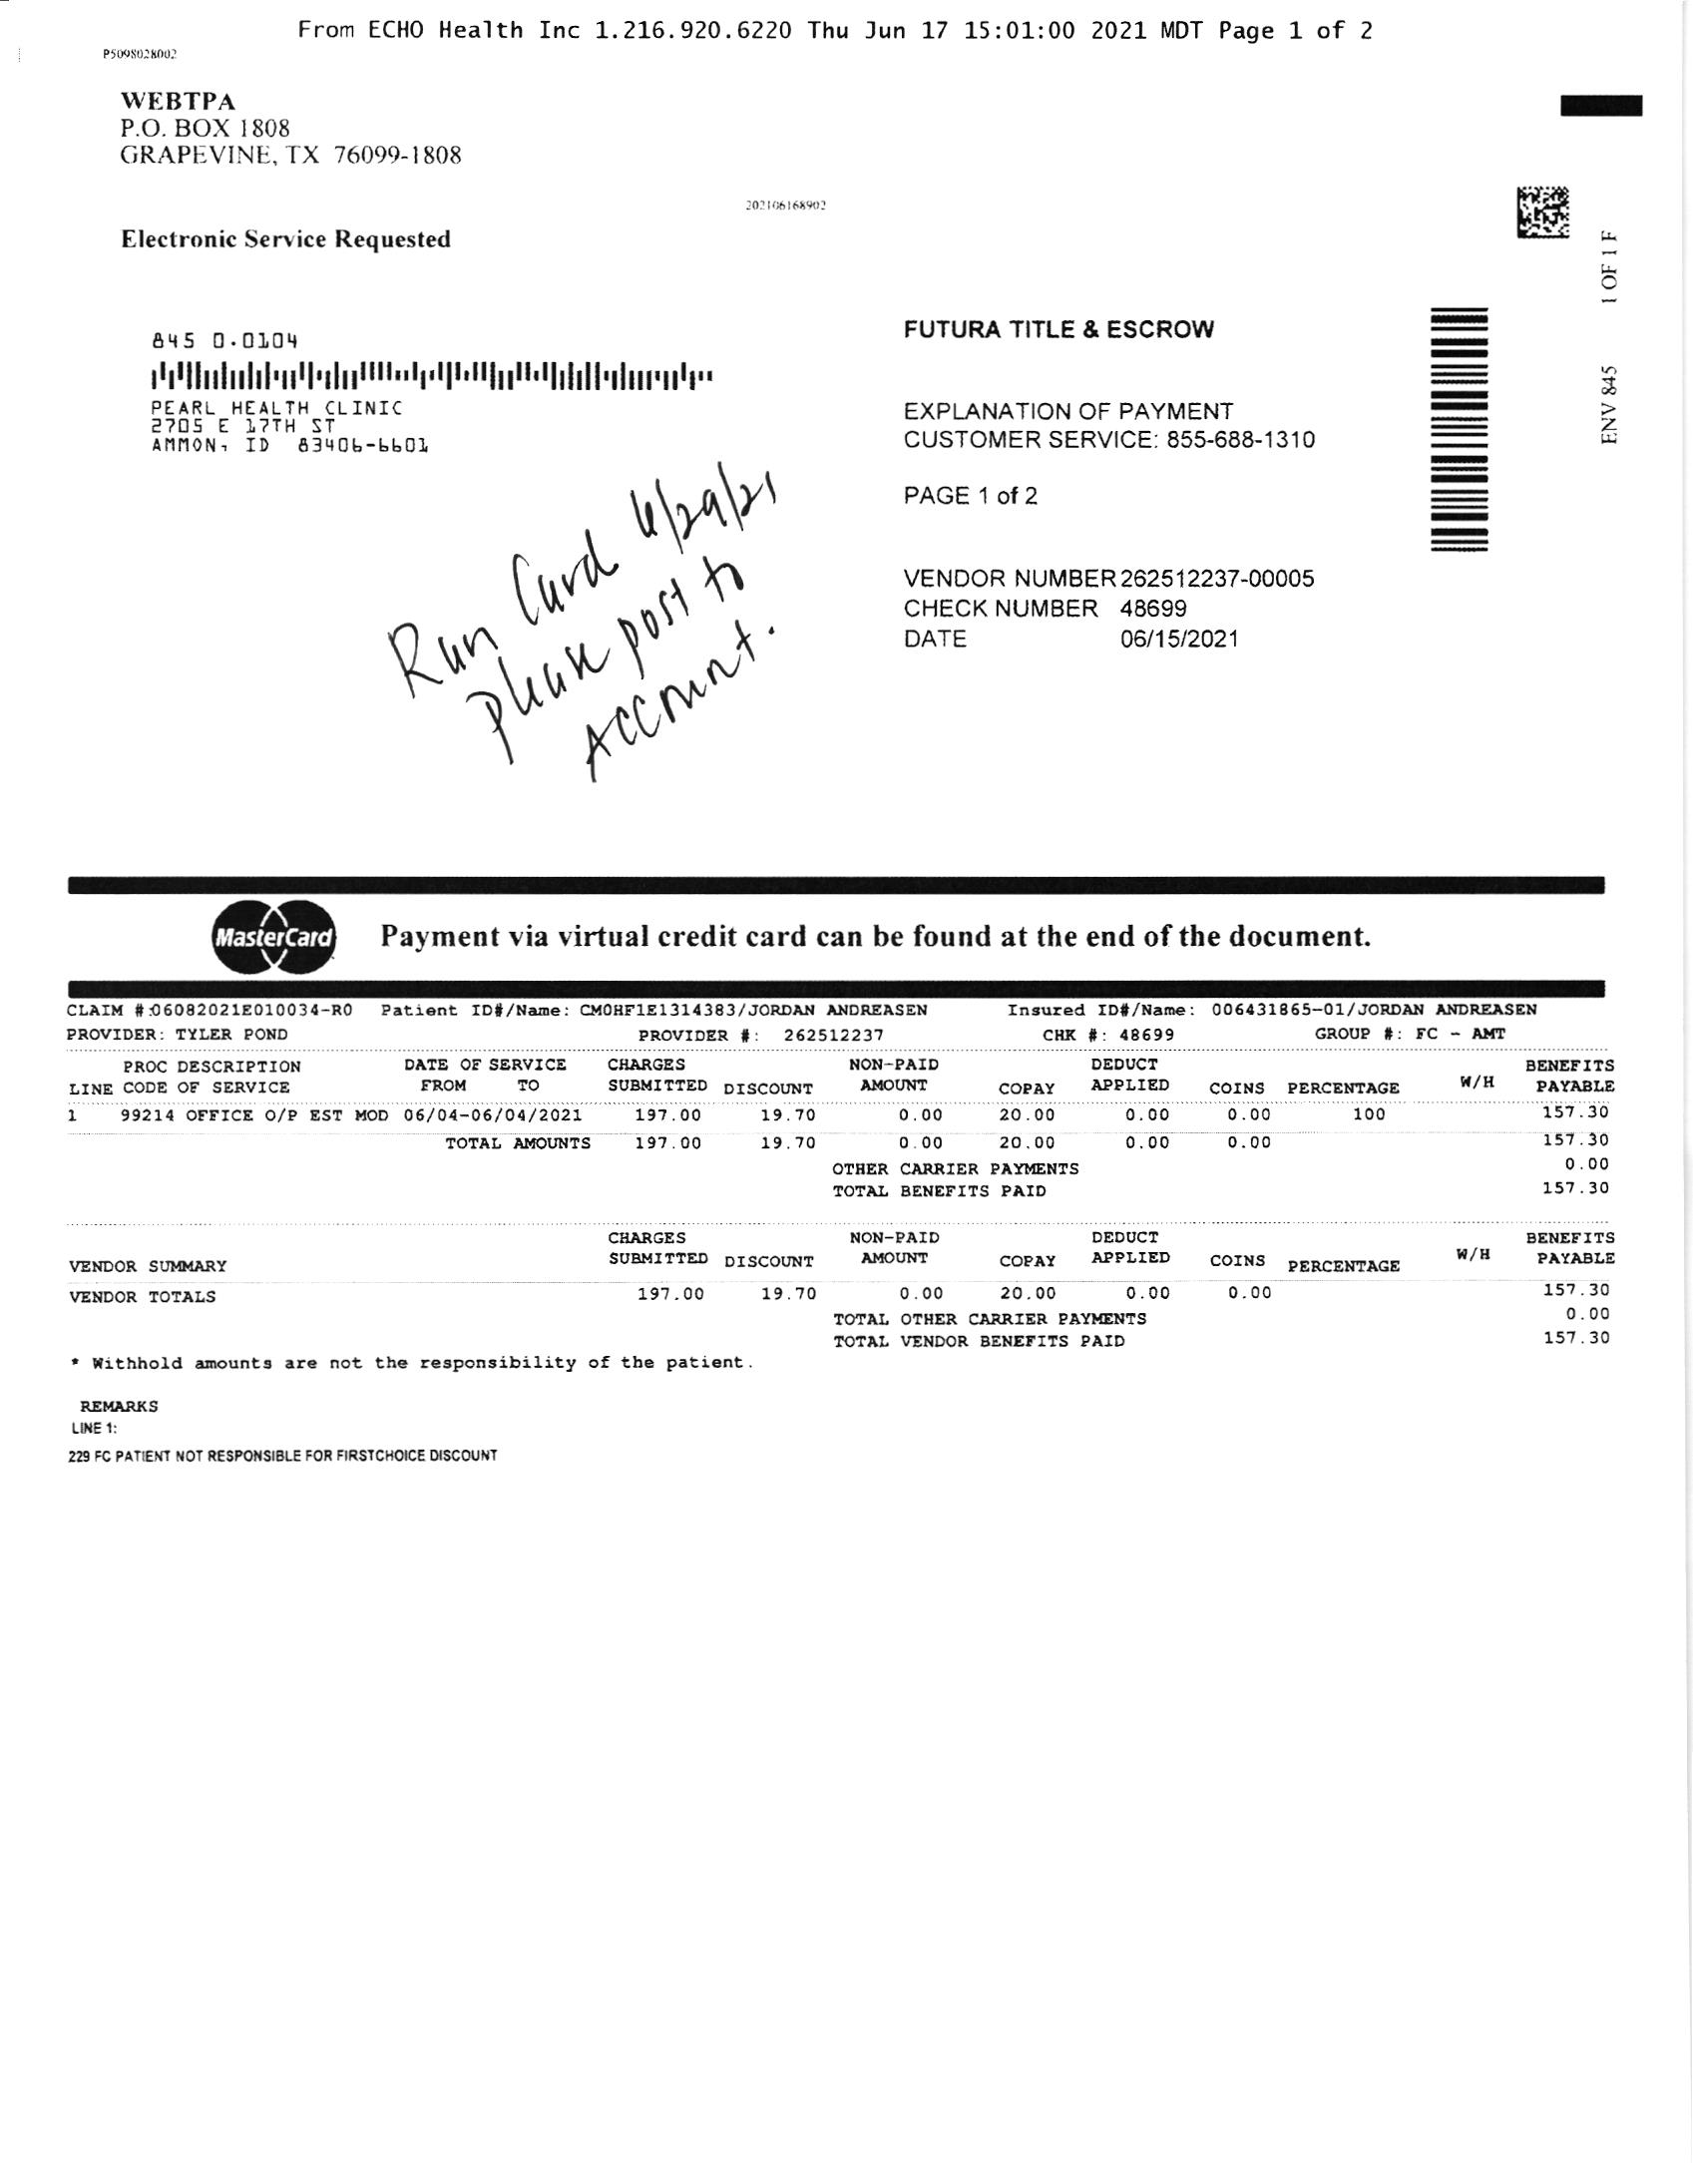data: (57, 993, 1567, 1046), (899, 558, 1347, 677)
table: (60, 1042, 1634, 1158), (60, 1211, 1617, 1305)
